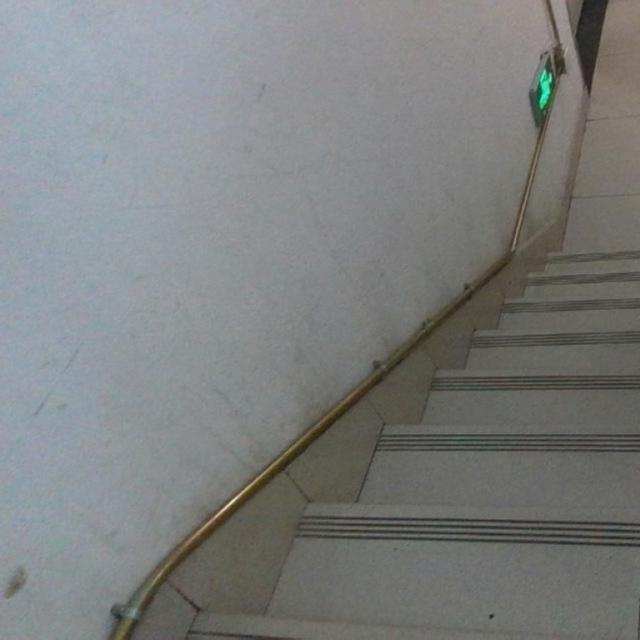stair: (298, 242, 640, 626)
